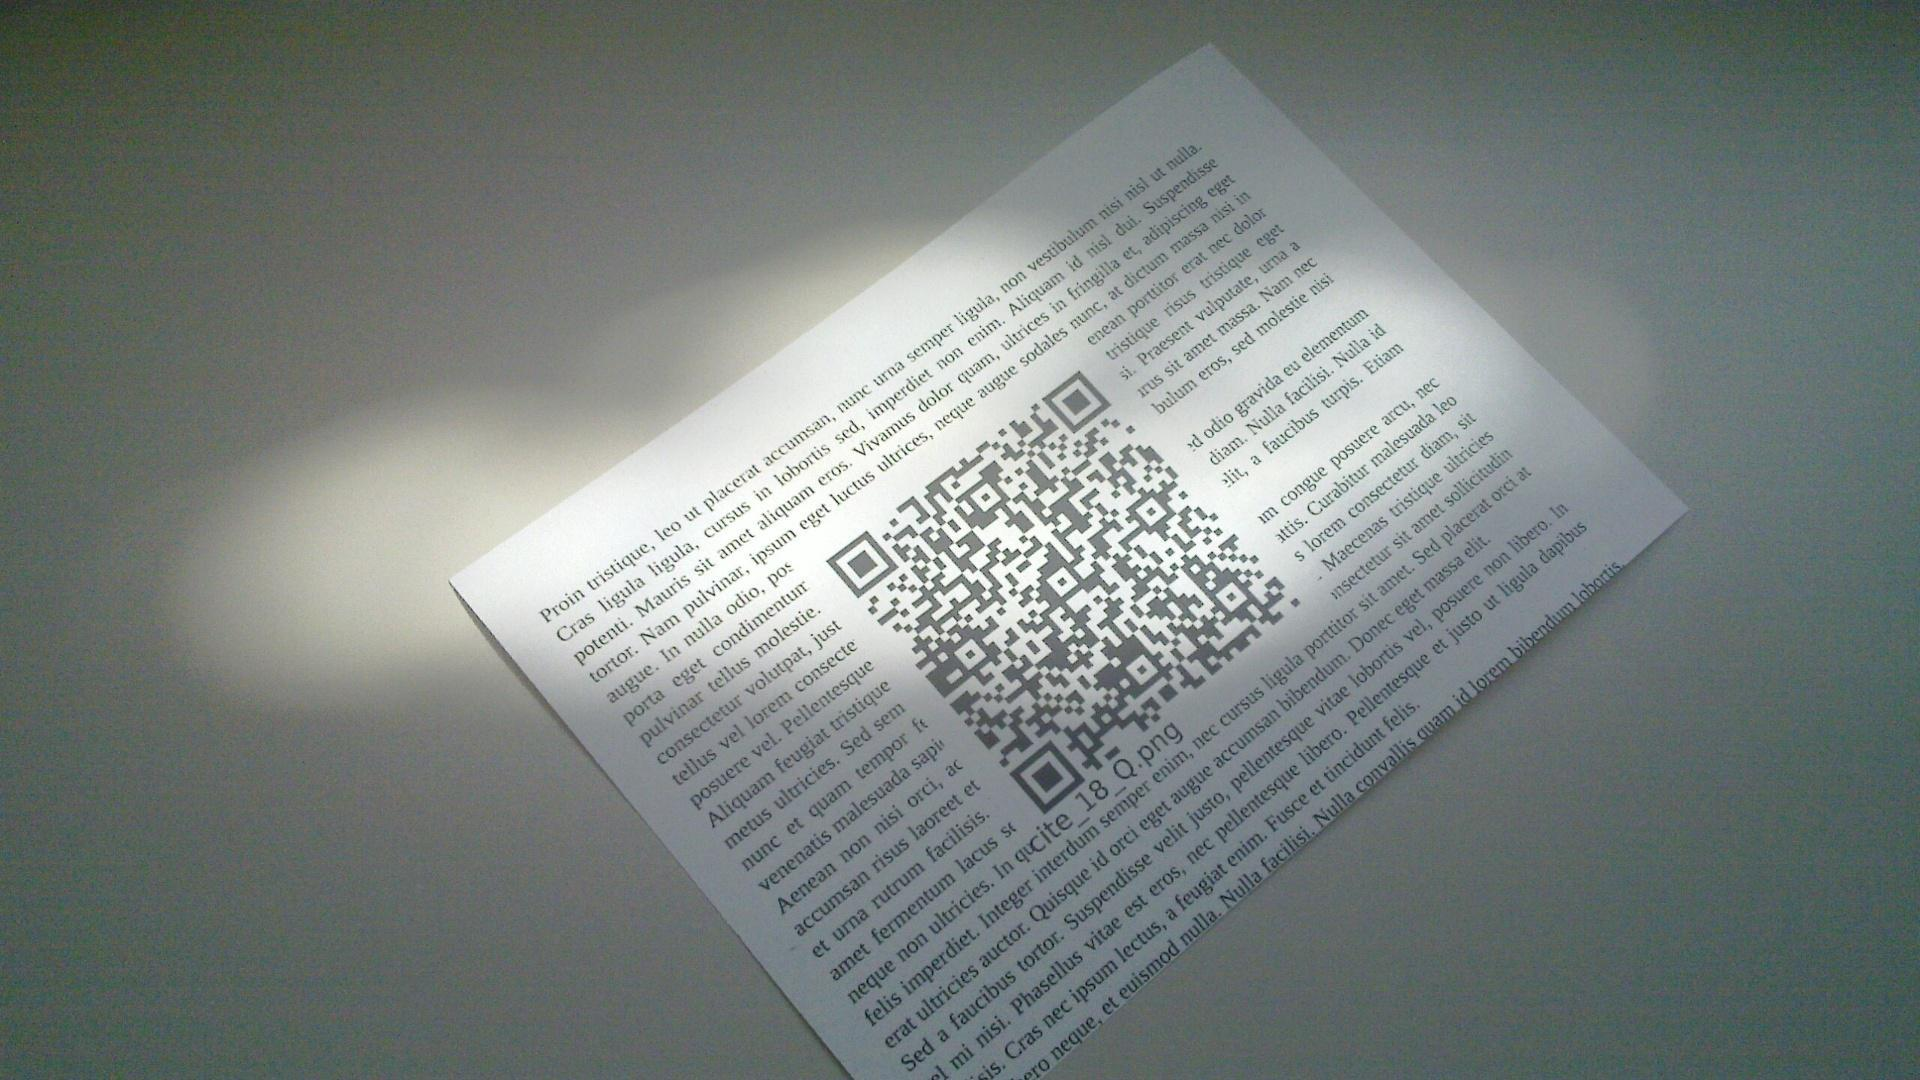Finder pattern: (1004, 738, 1088, 812), (823, 531, 895, 597), (1040, 371, 1109, 431)
